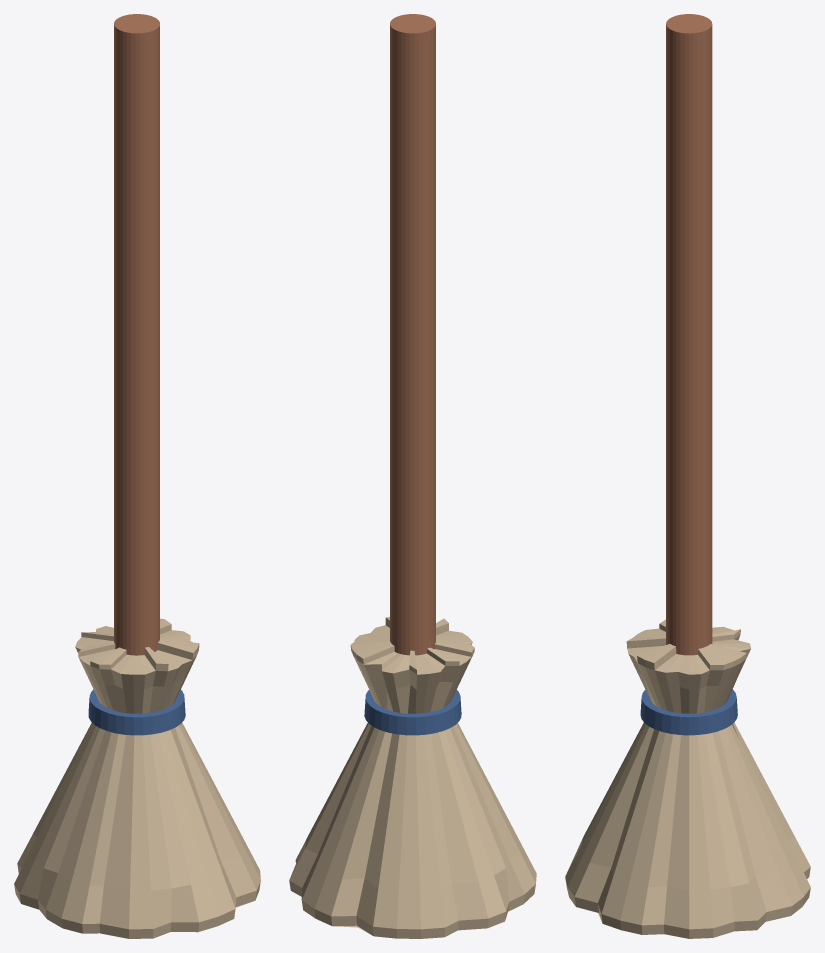
File: broom_garden.fbx
3 views of the same model, side by side, from view 1: azimuth 30°, elevation 25°; view 2: azimuth 150°, elevation 25°; view 3: azimuth 270°, elevation 25° (orthographic).
Parts seen in each view (by area): view 1: broom_garden, Cylinder.031, Cylinder.038; view 2: broom_garden, Cylinder.031, Cylinder.038; view 3: broom_garden, Cylinder.031, Cylinder.038.
Boxes of the visible parts, x1=… form: broom_garden: x1=14, y1=618, x2=260, y2=938; Cylinder.031: x1=114, y1=14, x2=159, y2=655; Cylinder.038: x1=88, y1=689, x2=185, y2=735; broom_garden: x1=289, y1=617, x2=536, y2=938; Cylinder.031: x1=390, y1=14, x2=435, y2=655; Cylinder.038: x1=364, y1=690, x2=461, y2=735; broom_garden: x1=565, y1=619, x2=810, y2=938; Cylinder.031: x1=666, y1=14, x2=712, y2=655; Cylinder.038: x1=640, y1=689, x2=737, y2=735.
Bounding box in the file's own units: 31.24 × 121 × 31.24.
